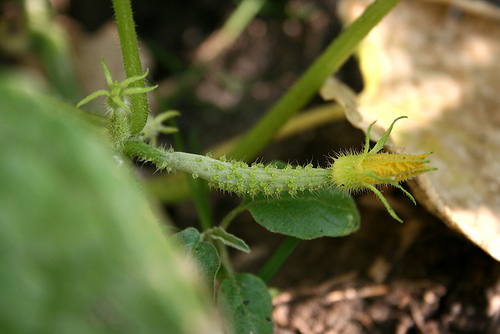cucumber: (166, 150, 333, 200)
